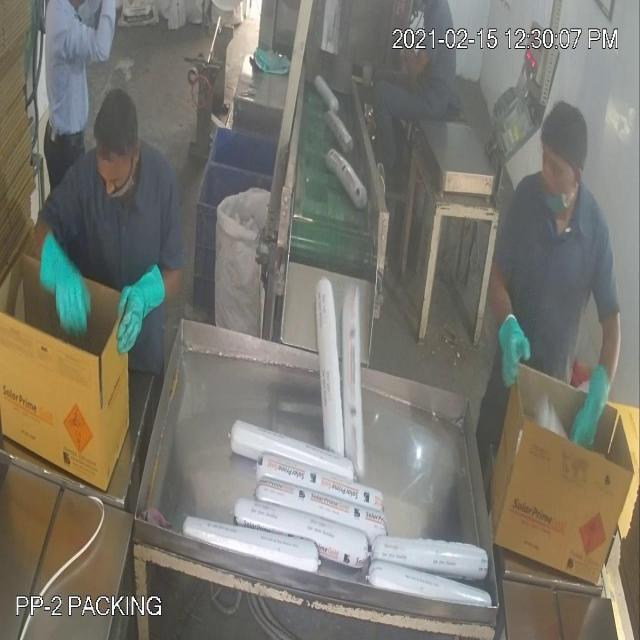Gloves: (45, 34, 592, 404)
